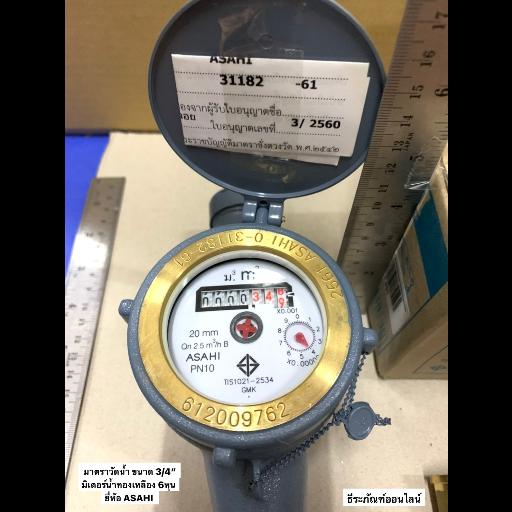0: (224, 290, 239, 306), (212, 290, 225, 306), (238, 289, 250, 305), (201, 291, 212, 307)
3: (249, 289, 263, 305)
4: (263, 288, 278, 304)
8: (276, 287, 288, 309)
border_water_meter_number: (192, 281, 295, 314)
